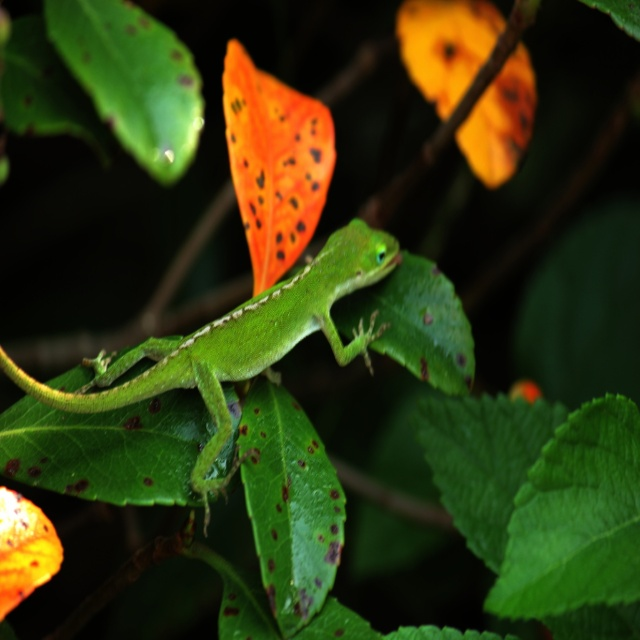Lizard: (54, 177, 452, 534)
